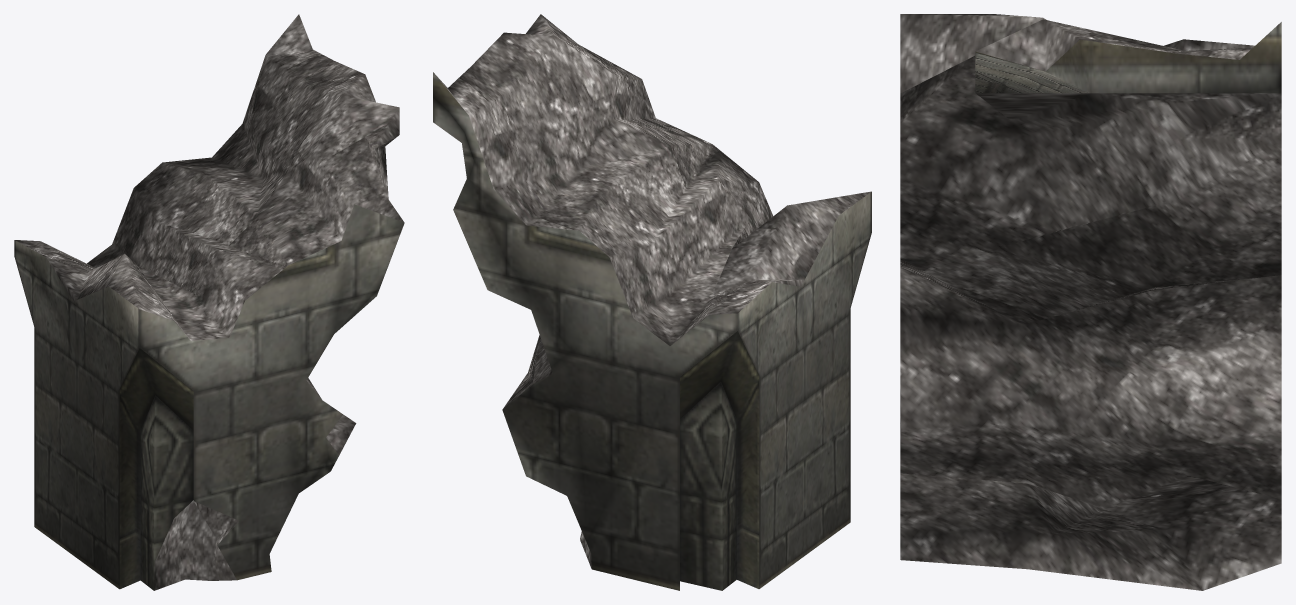
3 renders of one model, left to right at view 1: azimuth 30°, elevation 25°; view 2: azimuth 150°, elevation 25°; view 3: azimuth 270°, elevation 25°, orthographic. The views are drawn at different scales.
Parts seen in each view (by area): view 1: object127; view 2: object127; view 3: object127.
Boxes of the visible parts, <box> form: object127: <box>14,14,404,590</box>; object127: <box>433,14,871,590</box>; object127: <box>900,14,1281,590</box>.
Size of the model in its own units: 218 by 313 by 166.
2 materials, 2 textured.
